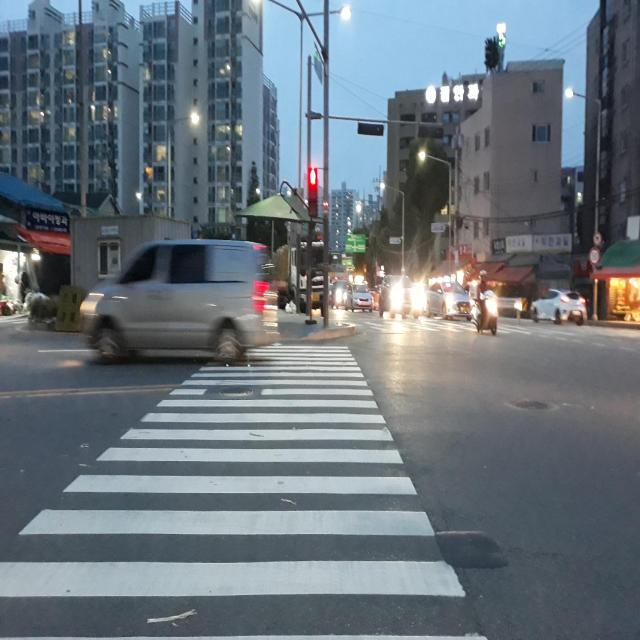빨간불: (308, 168, 318, 218)
횡단보도: (0, 340, 467, 601), (350, 318, 609, 341)
